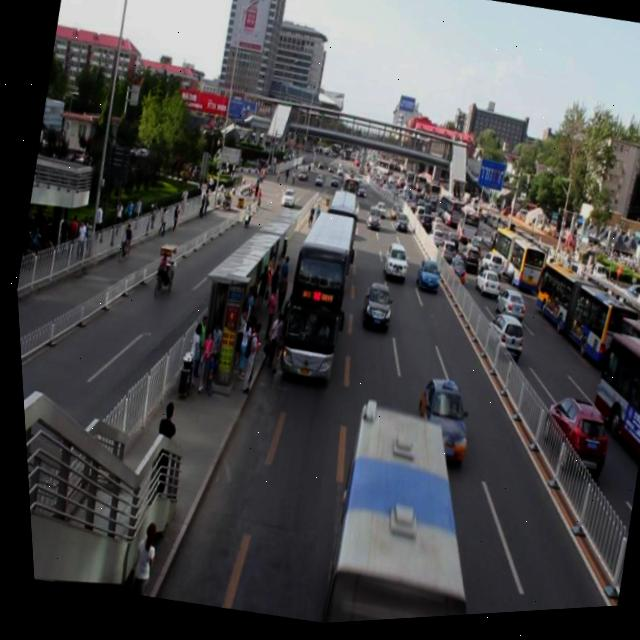car: (351, 282, 392, 333), (377, 244, 408, 287), (409, 261, 438, 295), (359, 207, 379, 234), (382, 205, 397, 224), (391, 217, 405, 234)
van: (302, 396, 502, 627), (264, 204, 359, 388), (312, 188, 362, 277)
